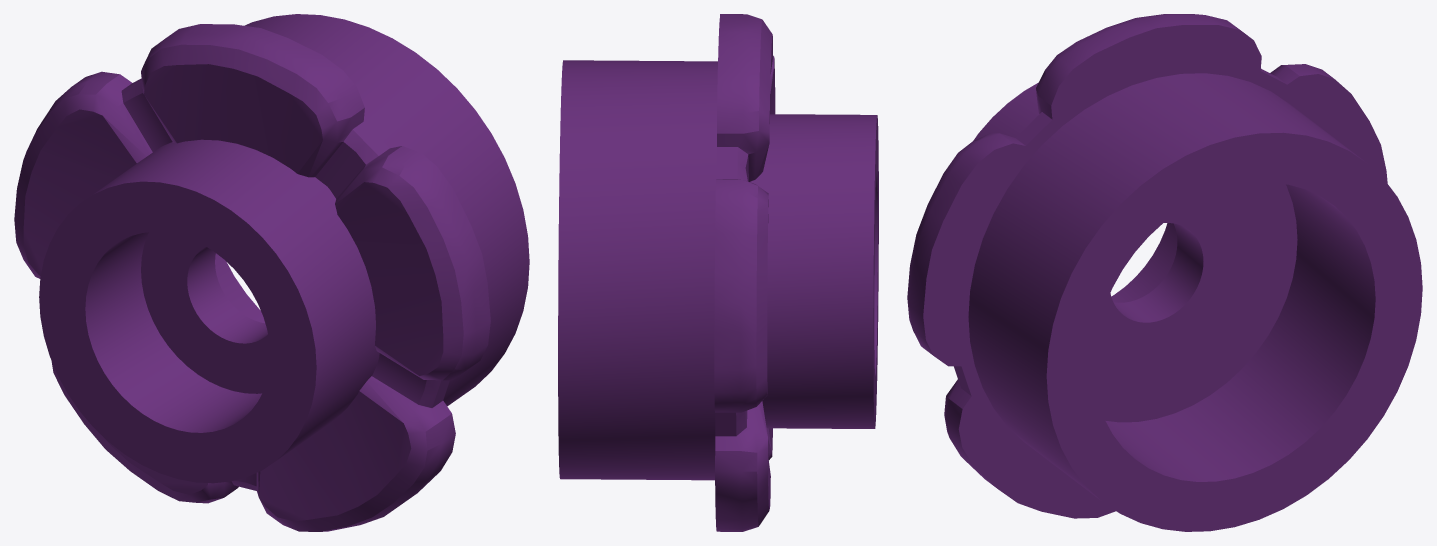
Rendered from plate_round1*1_with_flower_edge(5_petals)_medium_lavender.obj.
3 views of the same model, side by side, from view 1: azimuth 30°, elevation 25°; view 2: azimuth 150°, elevation 25°; view 3: azimuth 270°, elevation 25° (orthographic). The views are drawn at different scales.
Bounding box in the file's own units: 17.28 × 19.54 × 19.18.
